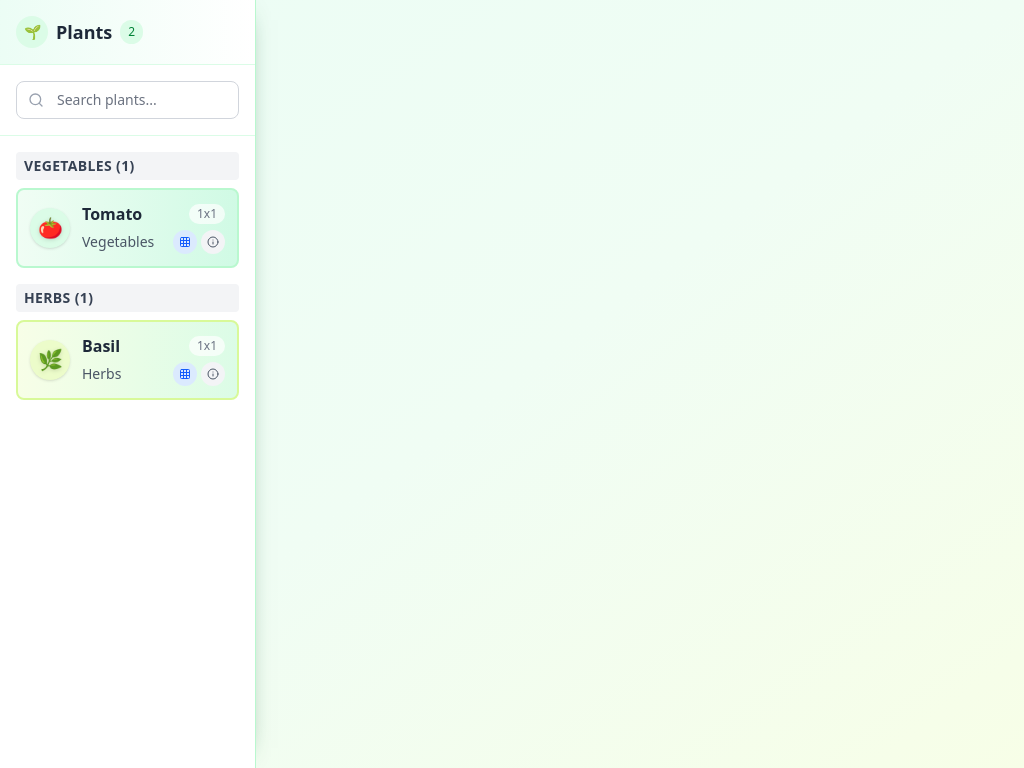
Scenario: Plant library details › dismisses with Close plant details and restores focus and scrolling
Click the button named "View information for Tomato". click: (213, 242)
box: [201,230,225,254]
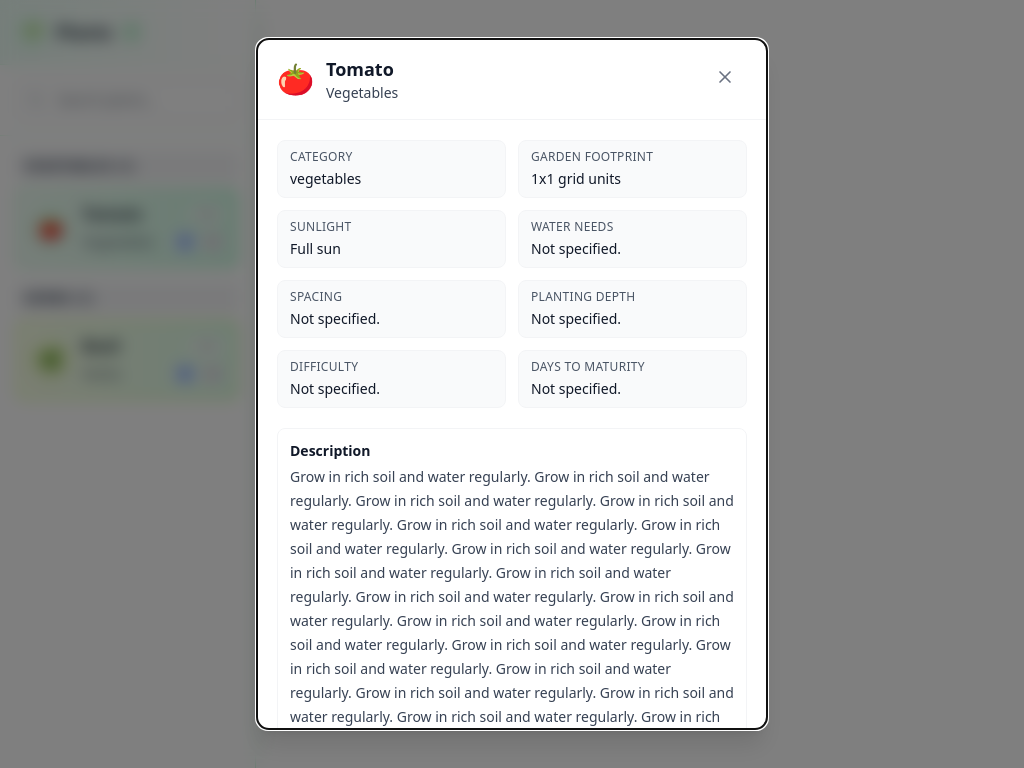
Click the button named "Close plant details". click: (725, 77)
box: [703,55,747,99]
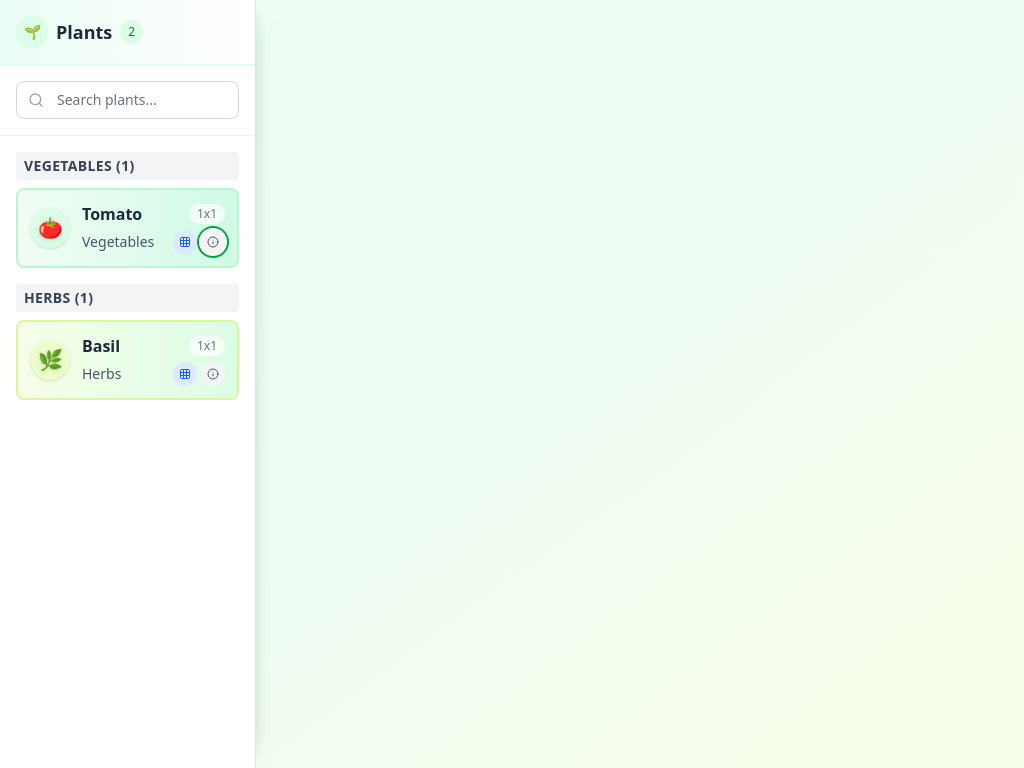
Expected: the dialog is gone
